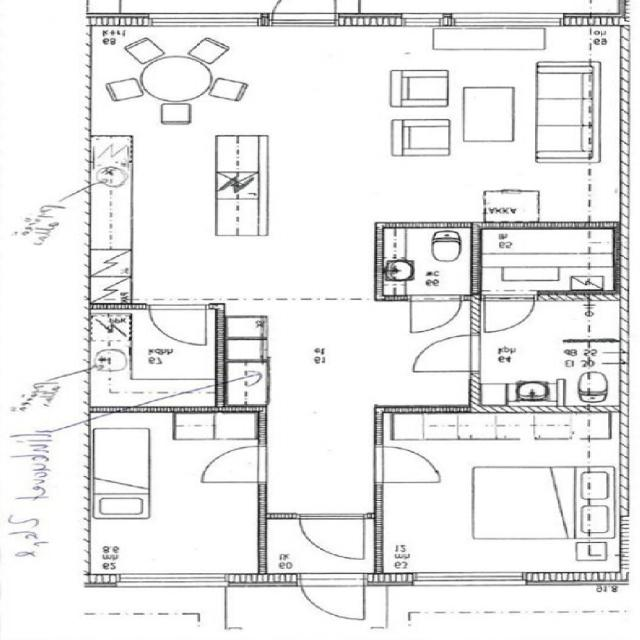door: (301, 574, 364, 628), (301, 513, 363, 559), (150, 304, 206, 346), (202, 446, 267, 482), (375, 446, 439, 482), (415, 335, 480, 370), (411, 295, 462, 333), (485, 294, 535, 332), (272, 0, 336, 26)
